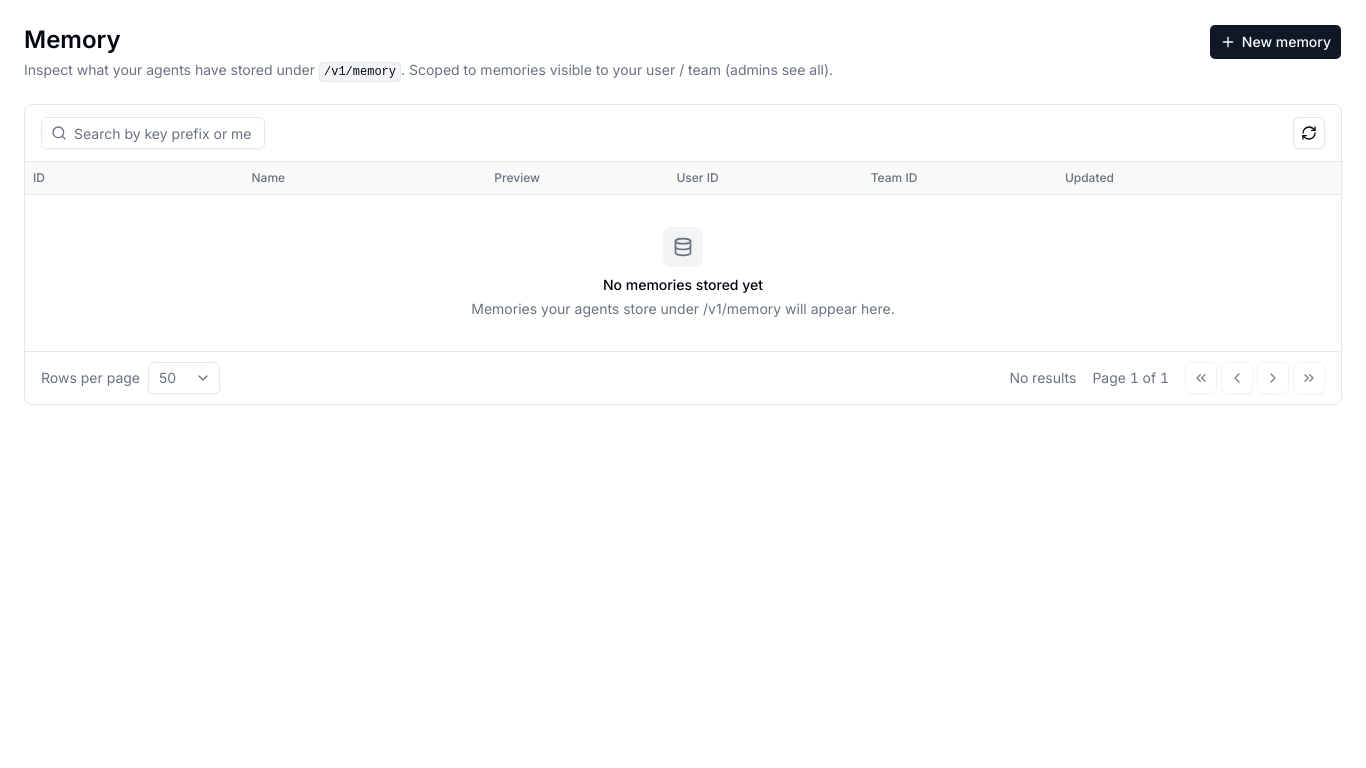
Test: MemoryView › opens the create modal from the New memory button
Expected: the text "Create memory" is not shown
Click the button "New memory": (1275, 42) [1209,24,1342,60]
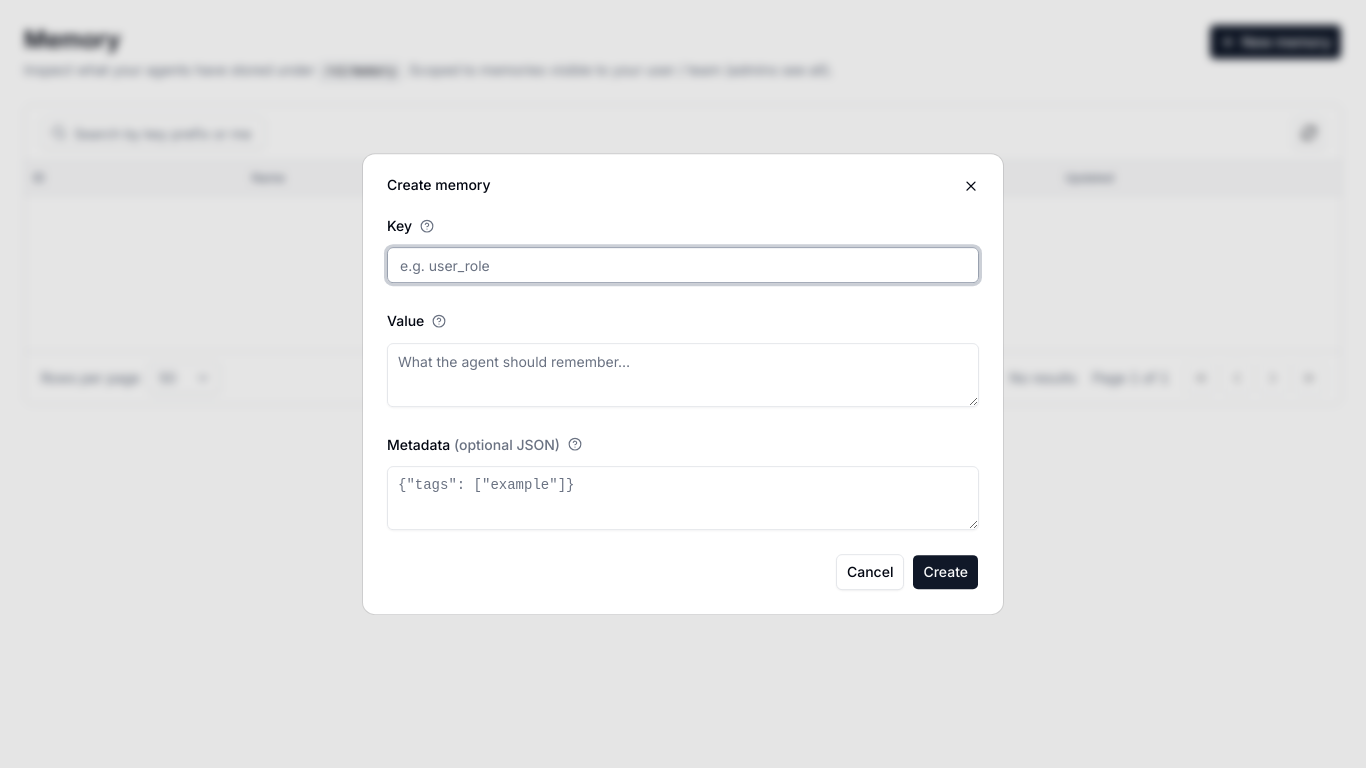
Result: the heading "Create memory" is shown at [387,176,490,193]
